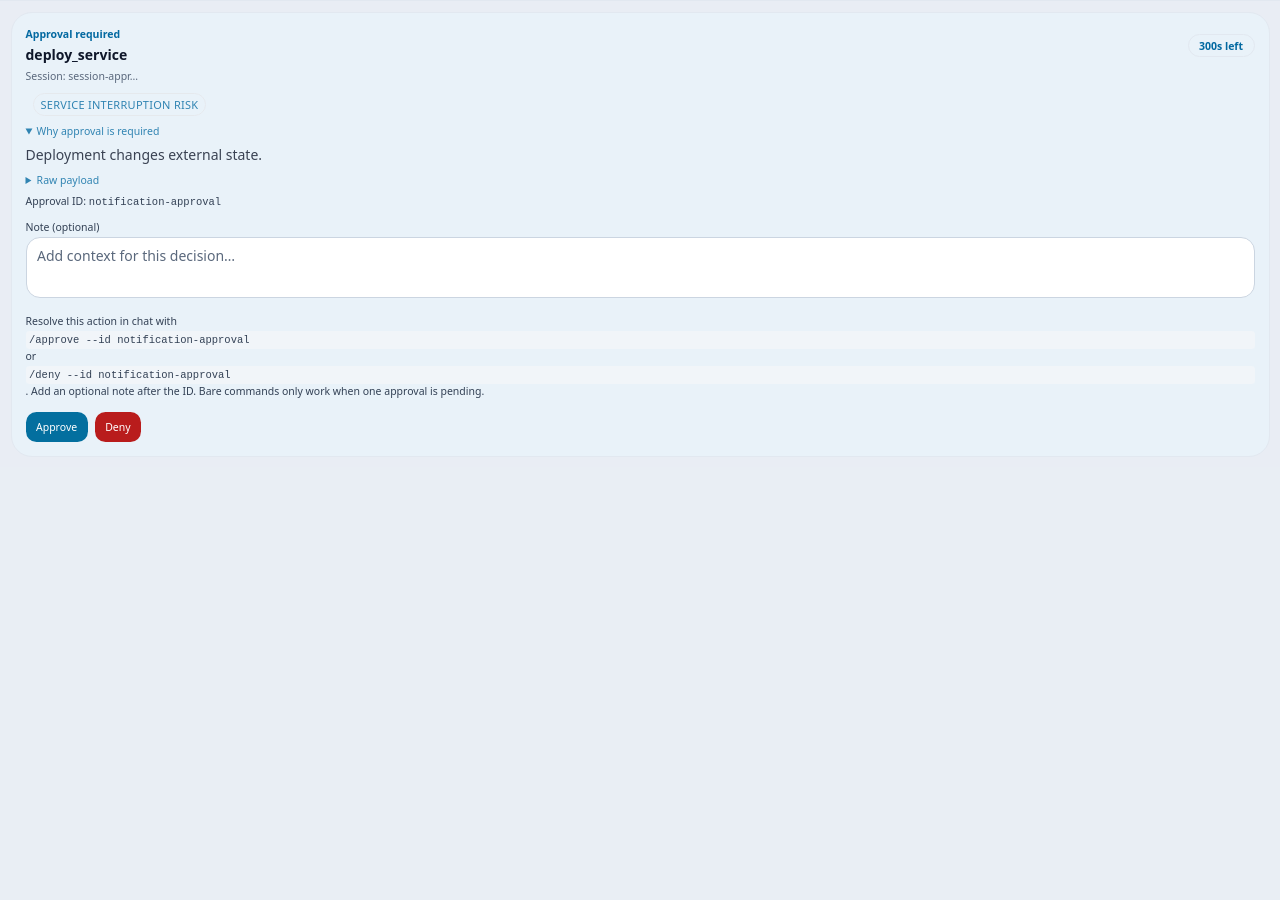
Test: ConversationPendingInteractions › disables approval actions while resolution is pending
Click the button "Approve" at (57, 427), box [26,412,88,442]
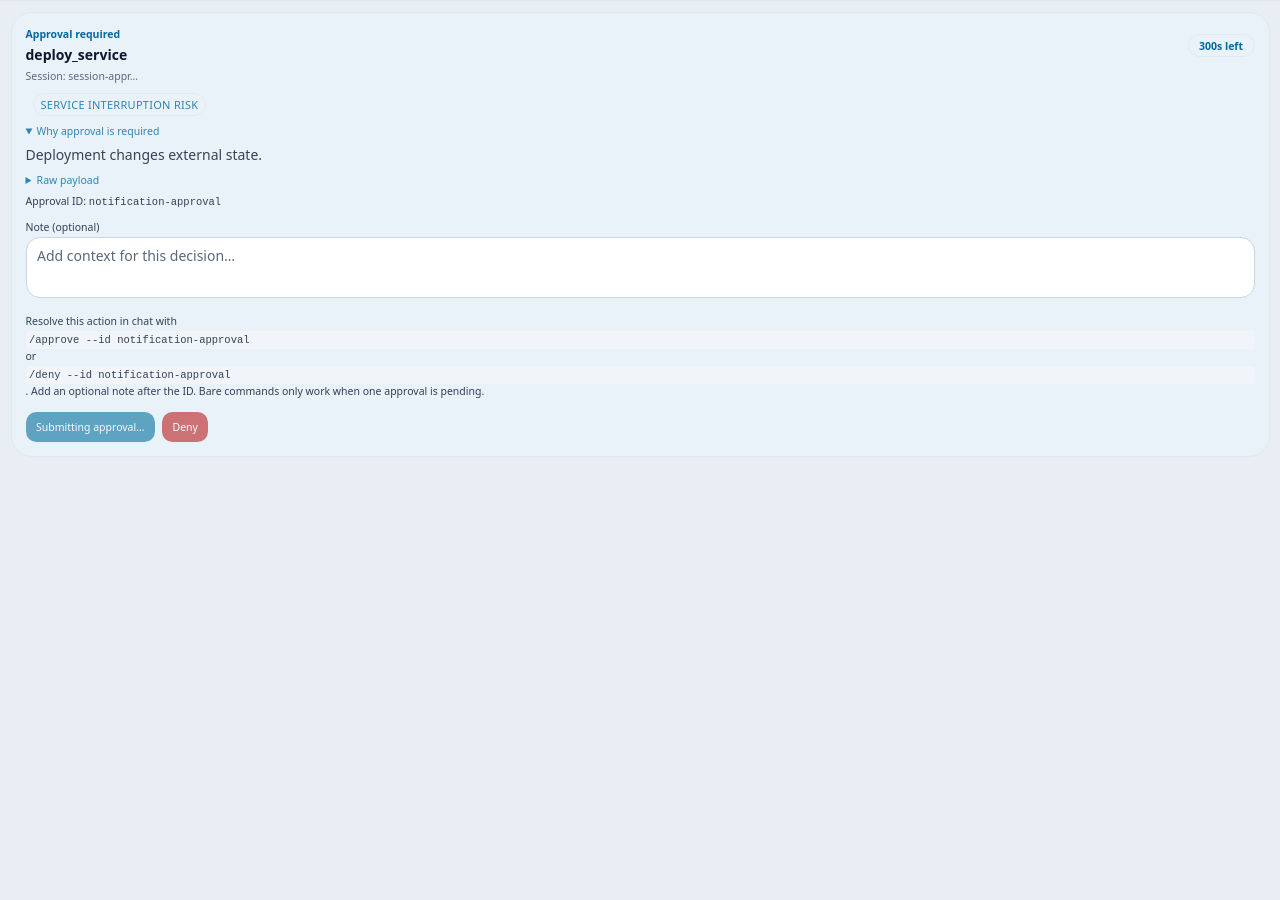
Expected: the button "Submitting approval…" is disabled, [26,412,155,442]
